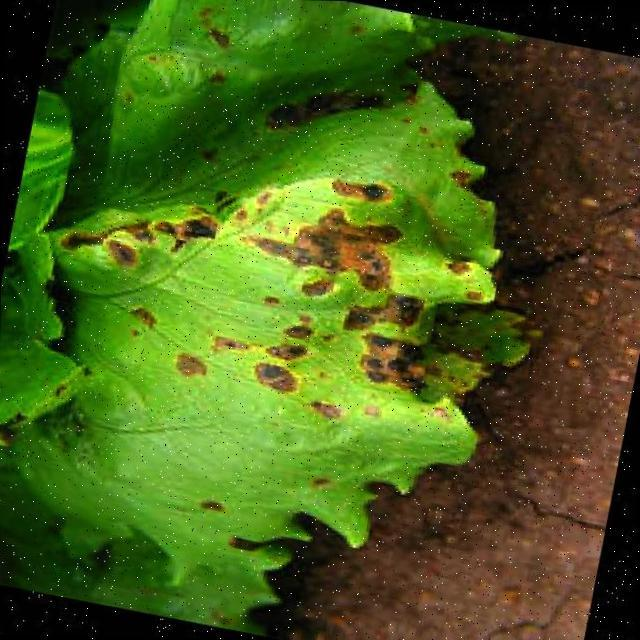Bacterial: (155, 131, 441, 460)
